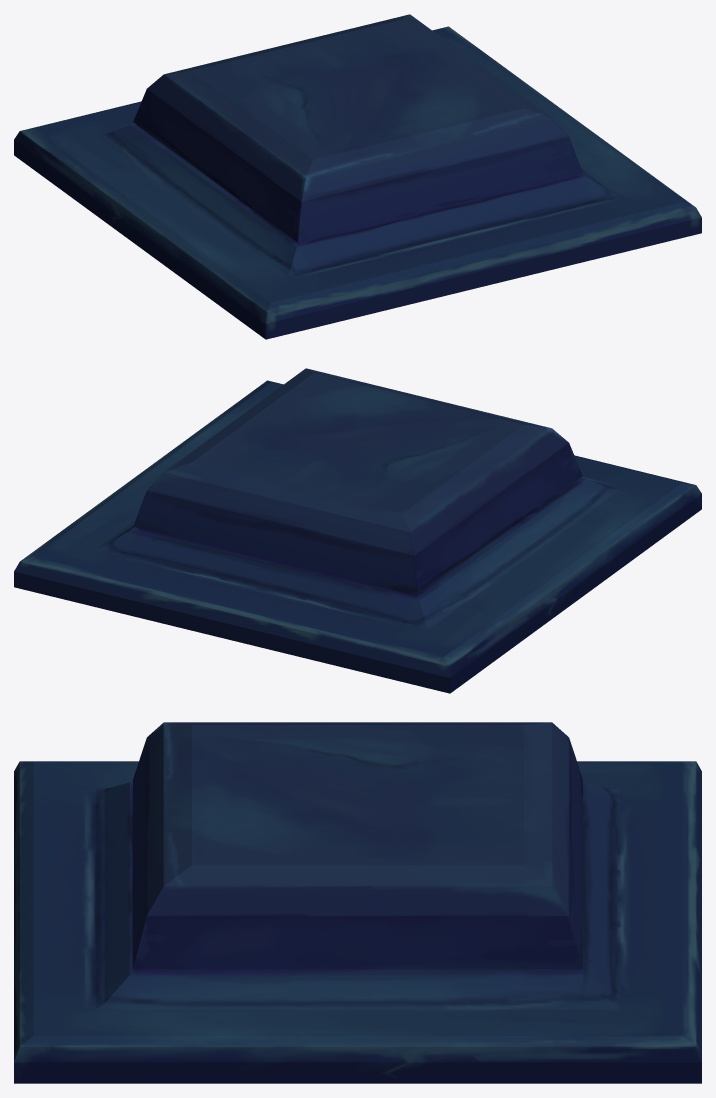
File: Pressure_Plate.glb
The picture shows the model from 3 angles, top to bottom: view 1: azimuth 30°, elevation 25°; view 2: azimuth 150°, elevation 25°; view 3: azimuth 270°, elevation 25°; orthographic projection. The views are drawn at different scales.
Parts seen in each view (by area): view 1: Plane.001; view 2: Plane.001; view 3: Plane.001.
Boxes of the visible parts, bbox=[...] form: Plane.001: bbox=[14, 14, 701, 339]; Plane.001: bbox=[14, 368, 701, 693]; Plane.001: bbox=[14, 722, 701, 1083].
Size of the model in its own units: 2.63 by 0.603 by 2.63.
Materials: 1 (1 with a texture image).
